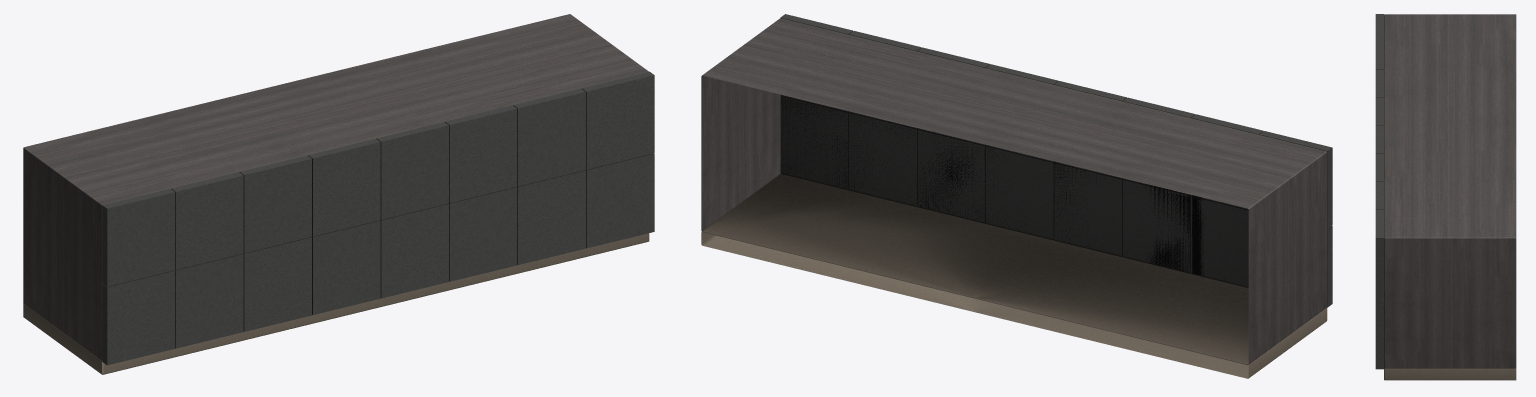
File: raw_model.obj
The picture shows the model from 3 angles, left to right: view 1: azimuth 30°, elevation 25°; view 2: azimuth 150°, elevation 25°; view 3: azimuth 270°, elevation 25°; orthographic projection. The views are drawn at different scales.
Visible parts, largest first — view 1: solid_003, solid_002, solid_001, solid_004; view 2: solid_003, solid_004, solid_001, solid_002; view 3: solid_003, solid_004, solid_001, solid_002.
Part boxes in pixels (x1,y1,x2,y2): solid_003: (23,14,648,360); solid_002: (102,71,654,365); solid_001: (102,88,654,348); solid_004: (23,233,649,374); solid_003: (701,18,1327,365); solid_004: (701,174,1327,378); solid_001: (781,31,1332,287); solid_002: (780,14,1332,307); solid_003: (1384,14,1516,368); solid_004: (1384,368,1516,380); solid_001: (1375,14,1383,369); solid_002: (1375,42,1383,303).
Size of the model in its own units: 2.35 by 0.6831 by 0.6593.
Materials: 1 (1 with a texture image).
